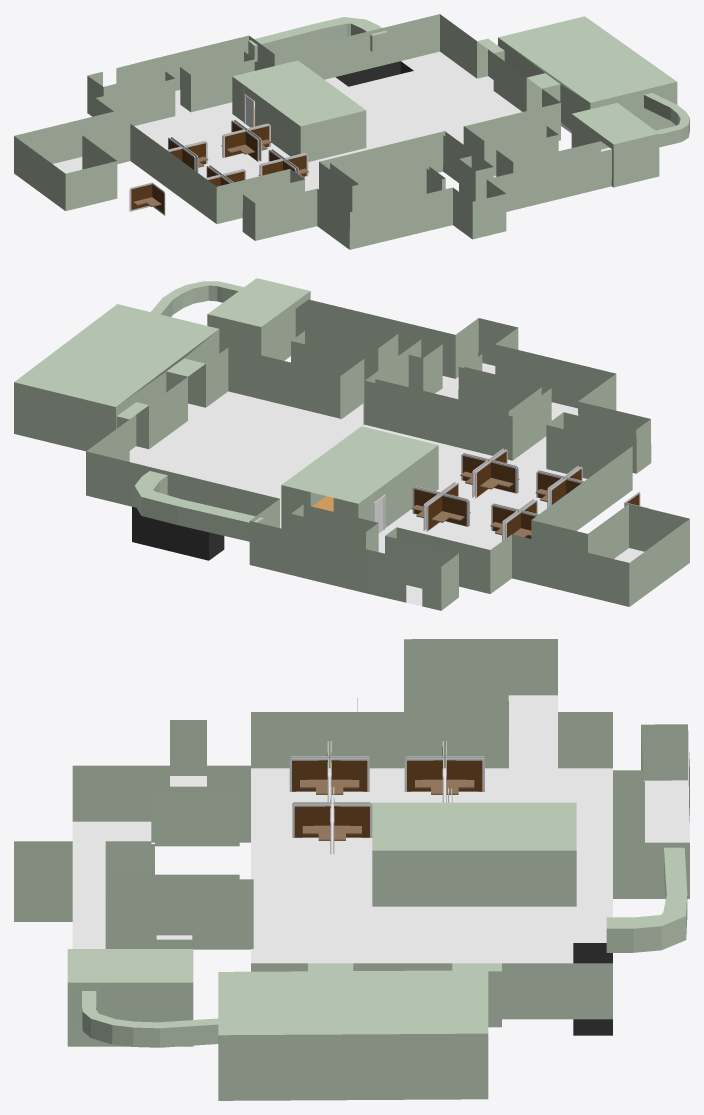
The model's file is junk mail block out.glb.
3 views of the same model, one above another, from view 1: azimuth 30°, elevation 25°; view 2: azimuth 150°, elevation 25°; view 3: azimuth 270°, elevation 25° (orthographic). The views are drawn at different scales.
Parts seen in each view (by area): view 1: Cube.027, Cube.028, Cube.031, Cube.029, Cube.035, Cube.030; view 2: Cube.027, Cube.031, Cube.028, Cube.035, Cube.030; view 3: Cube.027, Cube.031, Cube.030, Cube.035.
Boxes of the visible parts, left/top/right/bottom form: Cube.027: left=14, top=14, right=689, bottom=249; Cube.028: left=221, top=119, right=271, bottom=161; Cube.031: left=258, top=149, right=308, bottom=178; Cube.029: left=129, top=182, right=165, bottom=215; Cube.035: left=167, top=137, right=208, bottom=172; Cube.030: left=205, top=165, right=245, bottom=186; Cube.027: left=14, top=278, right=689, bottom=610; Cube.031: left=460, top=448, right=519, bottom=498; Cube.028: left=411, top=482, right=470, bottom=531; Cube.035: left=490, top=499, right=538, bottom=541; Cube.030: left=535, top=466, right=583, bottom=507; Cube.027: left=14, top=639, right=689, bottom=1100; Cube.031: left=292, top=787, right=372, bottom=854; Cube.030: left=289, top=741, right=369, bottom=807; Cube.035: left=404, top=741, right=484, bottom=802.
Size of the model in its own units: 44.01 by 5.57 by 31.36.
